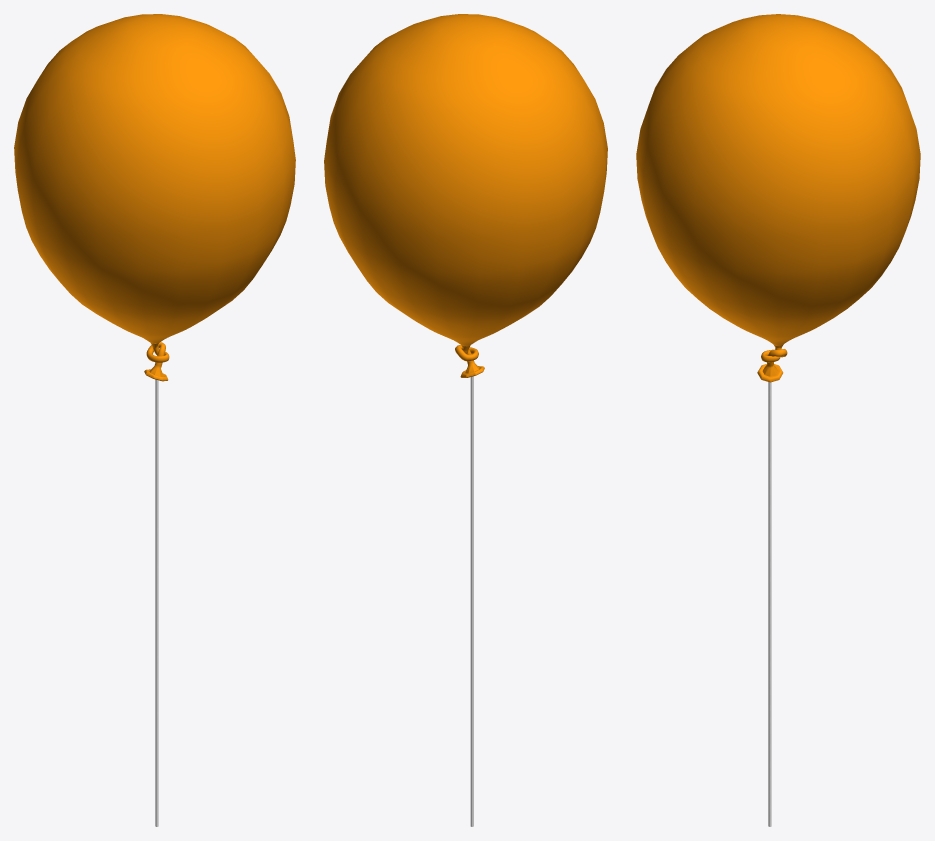
File: balloon.fbx
The picture shows the model from 3 angles, left to right: view 1: azimuth 30°, elevation 25°; view 2: azimuth 150°, elevation 25°; view 3: azimuth 270°, elevation 25°; orthographic projection.
Visible parts, largest first — view 1: balloon01, string1, balloon02; view 2: balloon01, string1, balloon02; view 3: balloon01, string1, balloon02.
Boxes of the visible parts, x1,y1,x2,y2 form: balloon01: [14, 14, 295, 343]; string1: [155, 379, 158, 826]; balloon02: [144, 342, 169, 381]; balloon01: [324, 14, 607, 346]; string1: [470, 376, 473, 826]; balloon02: [455, 345, 484, 377]; balloon01: [636, 14, 920, 346]; string1: [768, 382, 771, 826]; balloon02: [757, 344, 787, 382].
Size of the model in its own units: 5.03 by 15.63 by 5.03.
